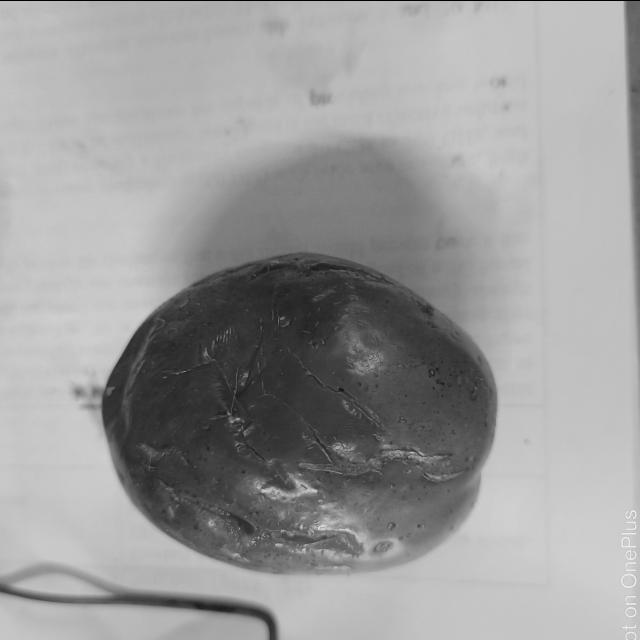Botrytis: (160, 477, 253, 535), (264, 525, 360, 551), (371, 537, 395, 555), (384, 519, 396, 531)
